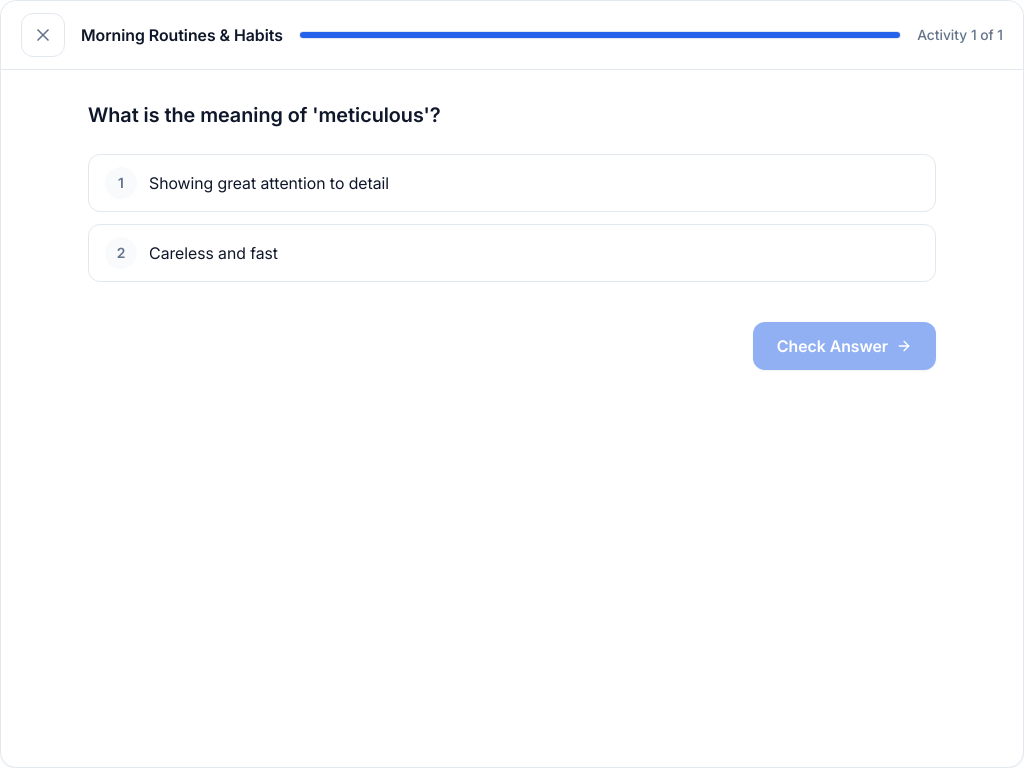
Test: A guest working through a lesson › grades through the preview route and starts no attempt
Expected: the heading "What is the meaning of 'meticulous'?" is shown, [88,103,441,127]
What coordinates should you click on to do the following:
click the radio button labelled "1 Showing great attention to detail"
I would click on:
 (121, 182)
Its box is [88,154,936,212].
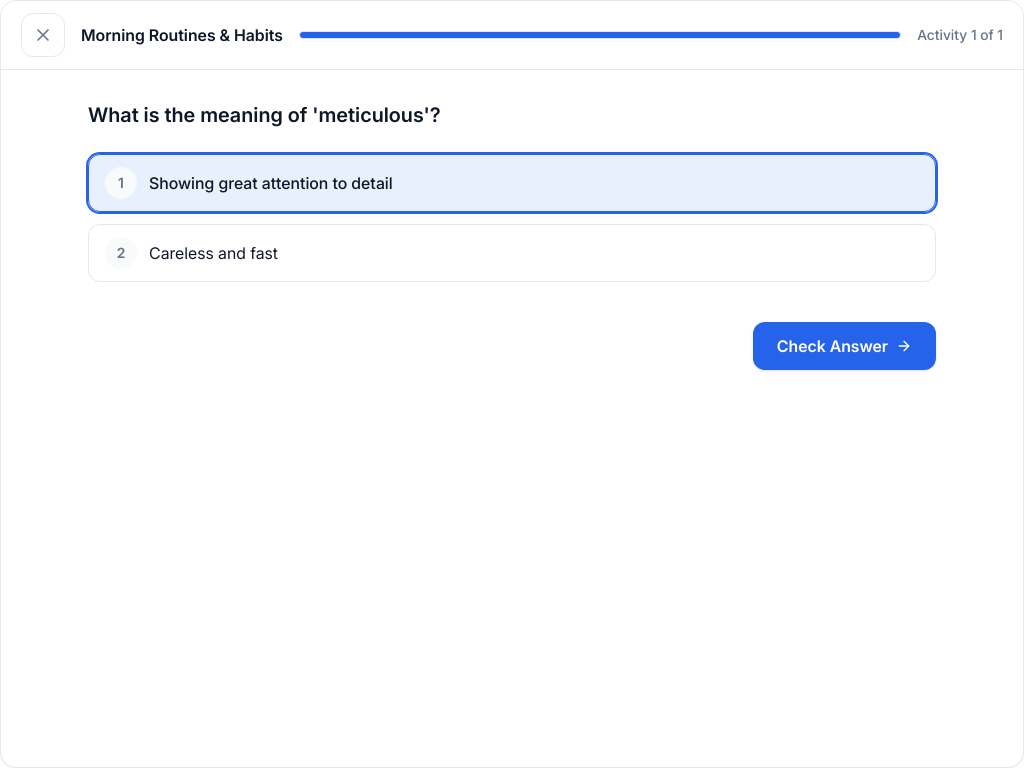
What coordinates should you click on to do the following:
click the button "Check Answer"
I would click on:
 (844, 346)
Its box is [753,322,936,370].
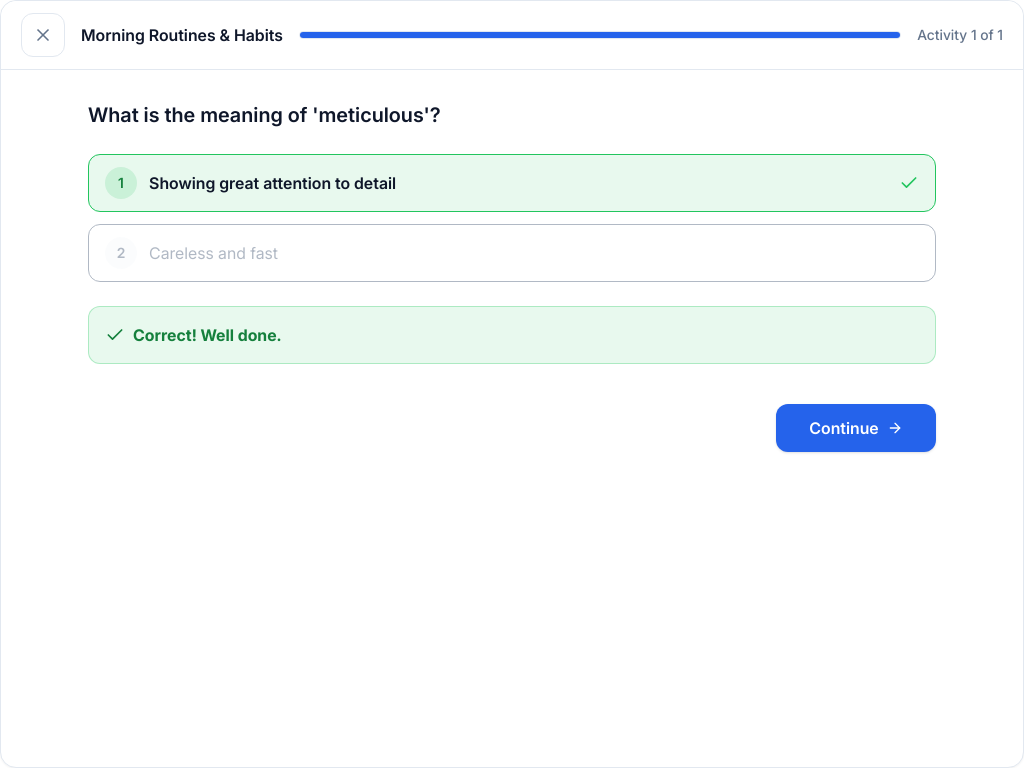
Expected: the text "Correct! Well done." is shown, [133,322,282,346]
